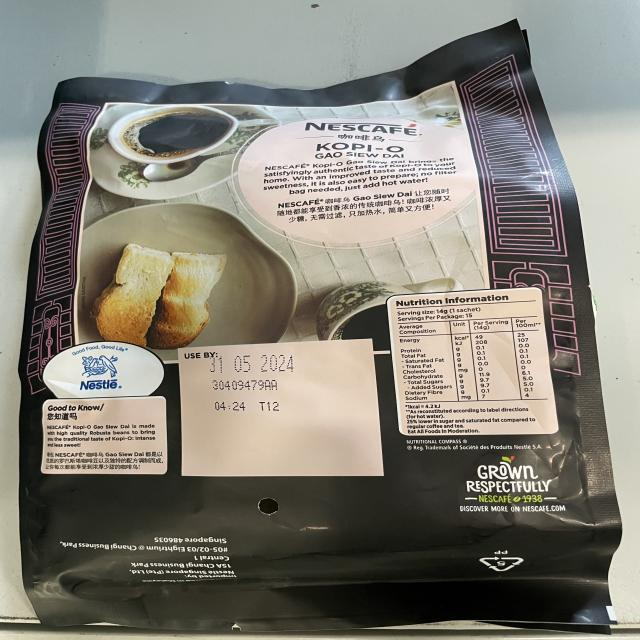object_name: (38, 62, 592, 631)
